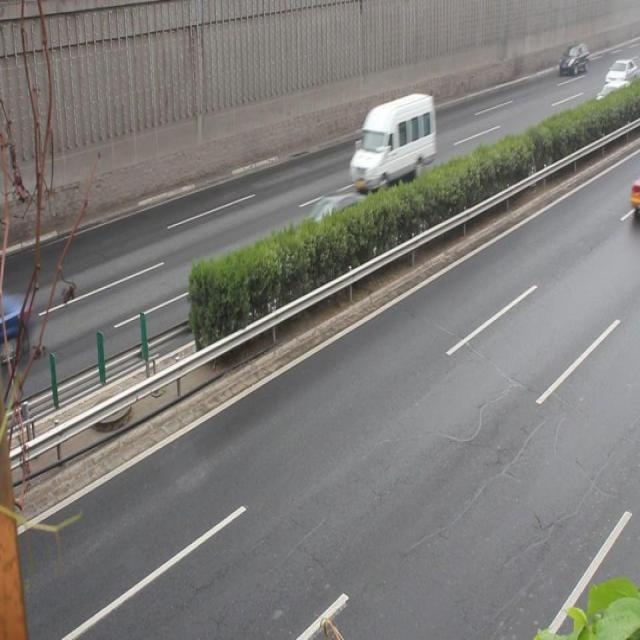car: (293, 193, 368, 261)
truck: (349, 94, 436, 190)
